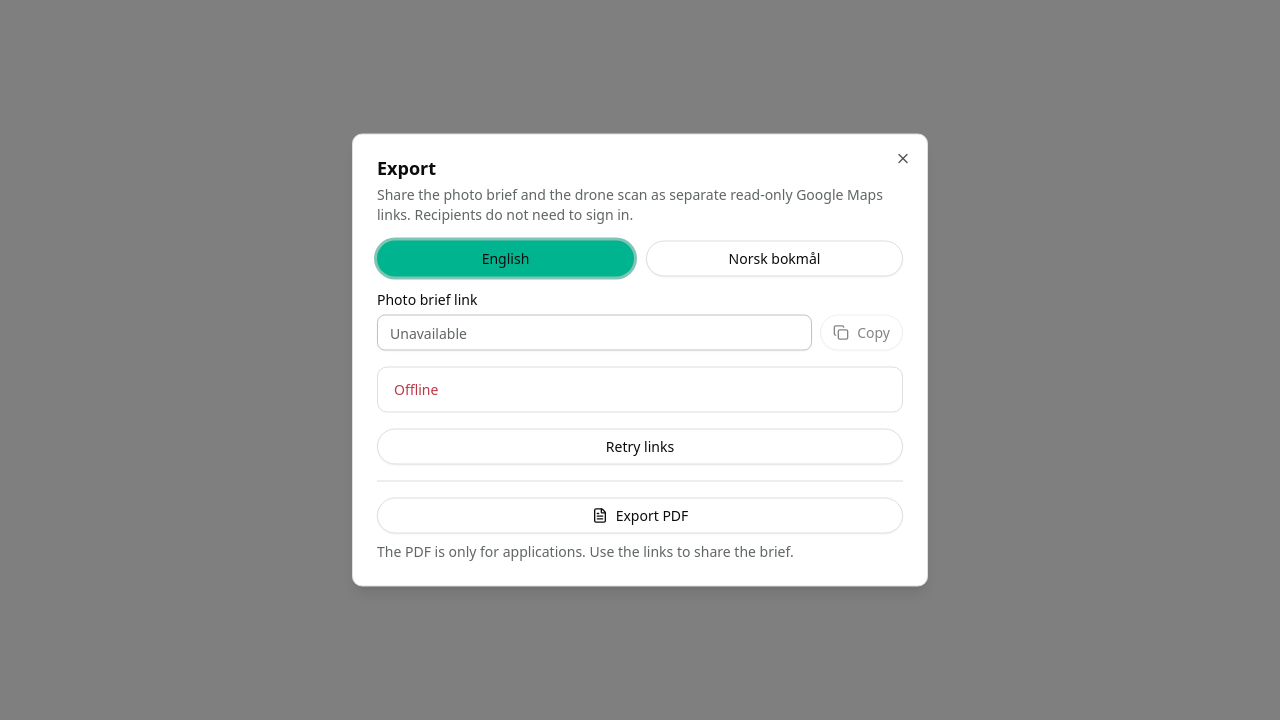
Scenario: offers only the photo brief link when there is no drone scan, and retries a failed link
The image size is (1280, 720).
Expected: the text "Offline" is shown, [394,380,438,398]
Click the button "Retry links".
click(640, 446)  # box [377,428,903,464]
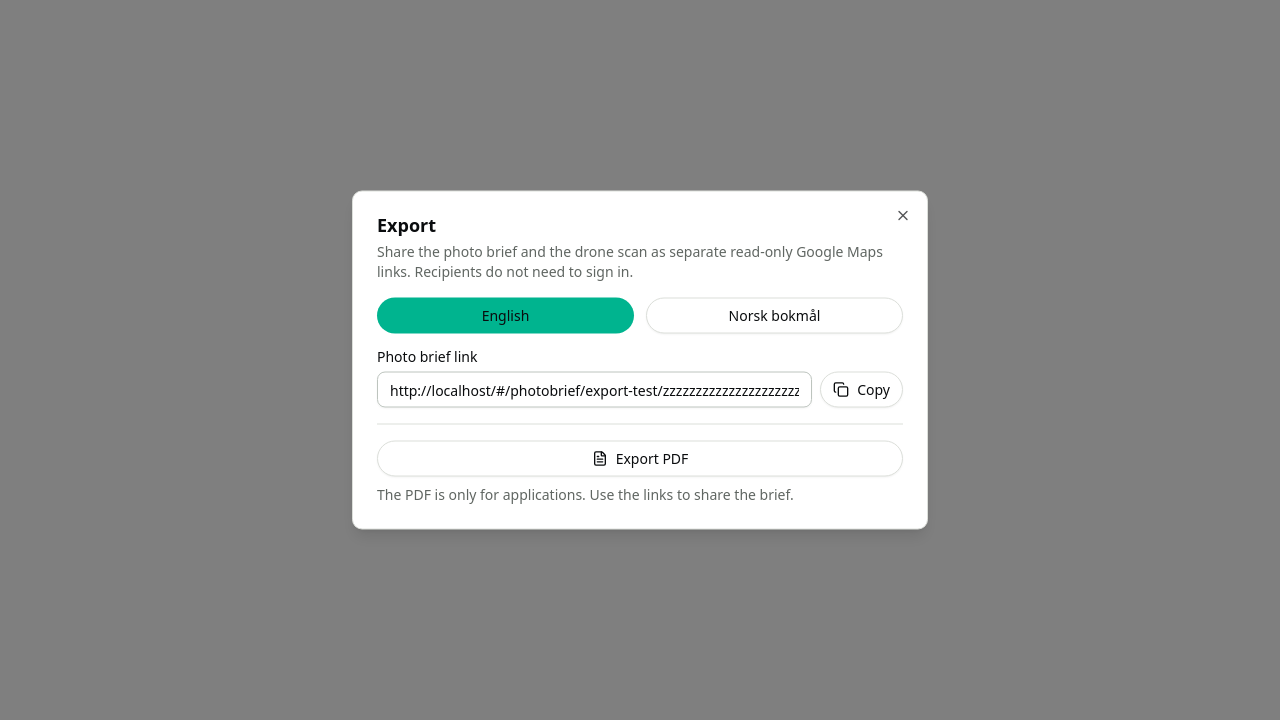
Result: the text "Offline" is gone
